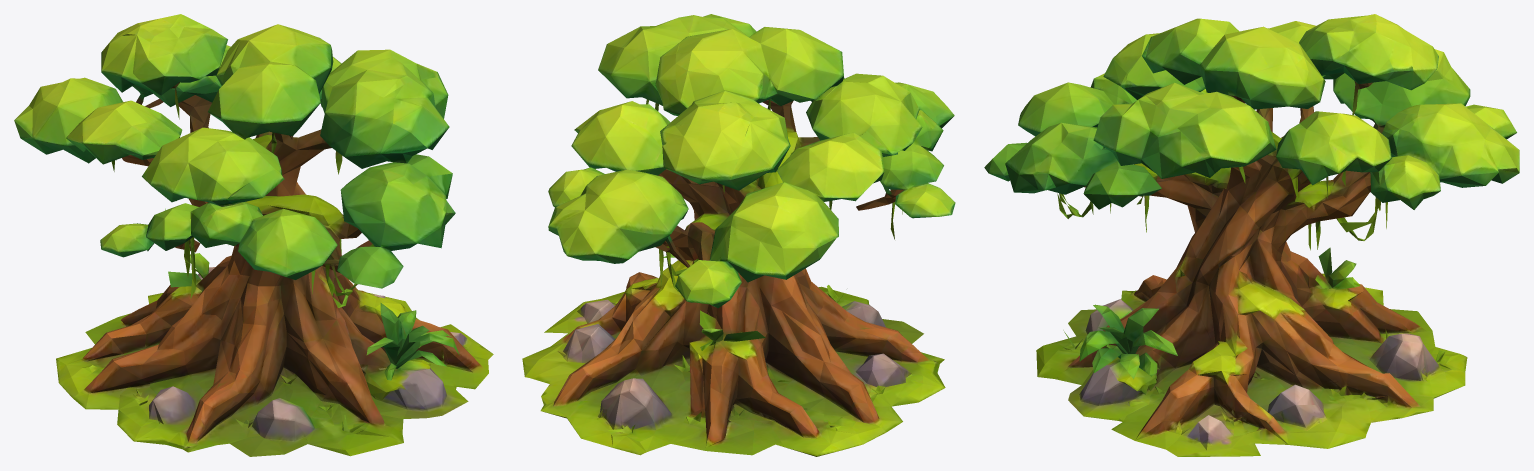
The model's file is KeepSakeHugeTreeGreen.glb.
The picture shows the model from 3 angles, left to right: view 1: azimuth 30°, elevation 25°; view 2: azimuth 150°, elevation 25°; view 3: azimuth 270°, elevation 25°; orthographic projection.
Visible parts, largest first — view 1: tripo_node_c57631a2-b1bf-4de6-94ce-7582cd0a57db; view 2: tripo_node_c57631a2-b1bf-4de6-94ce-7582cd0a57db; view 3: tripo_node_c57631a2-b1bf-4de6-94ce-7582cd0a57db.
Part boxes in pixels (bbox=[...]): tripo_node_c57631a2-b1bf-4de6-94ce-7582cd0a57db: bbox=[14, 14, 493, 456]; tripo_node_c57631a2-b1bf-4de6-94ce-7582cd0a57db: bbox=[522, 14, 955, 456]; tripo_node_c57631a2-b1bf-4de6-94ce-7582cd0a57db: bbox=[984, 14, 1519, 456].
Bounding box in the file's own units: 0.8035 × 0.6734 × 0.979.
Materials: 1 (1 with a texture image).
